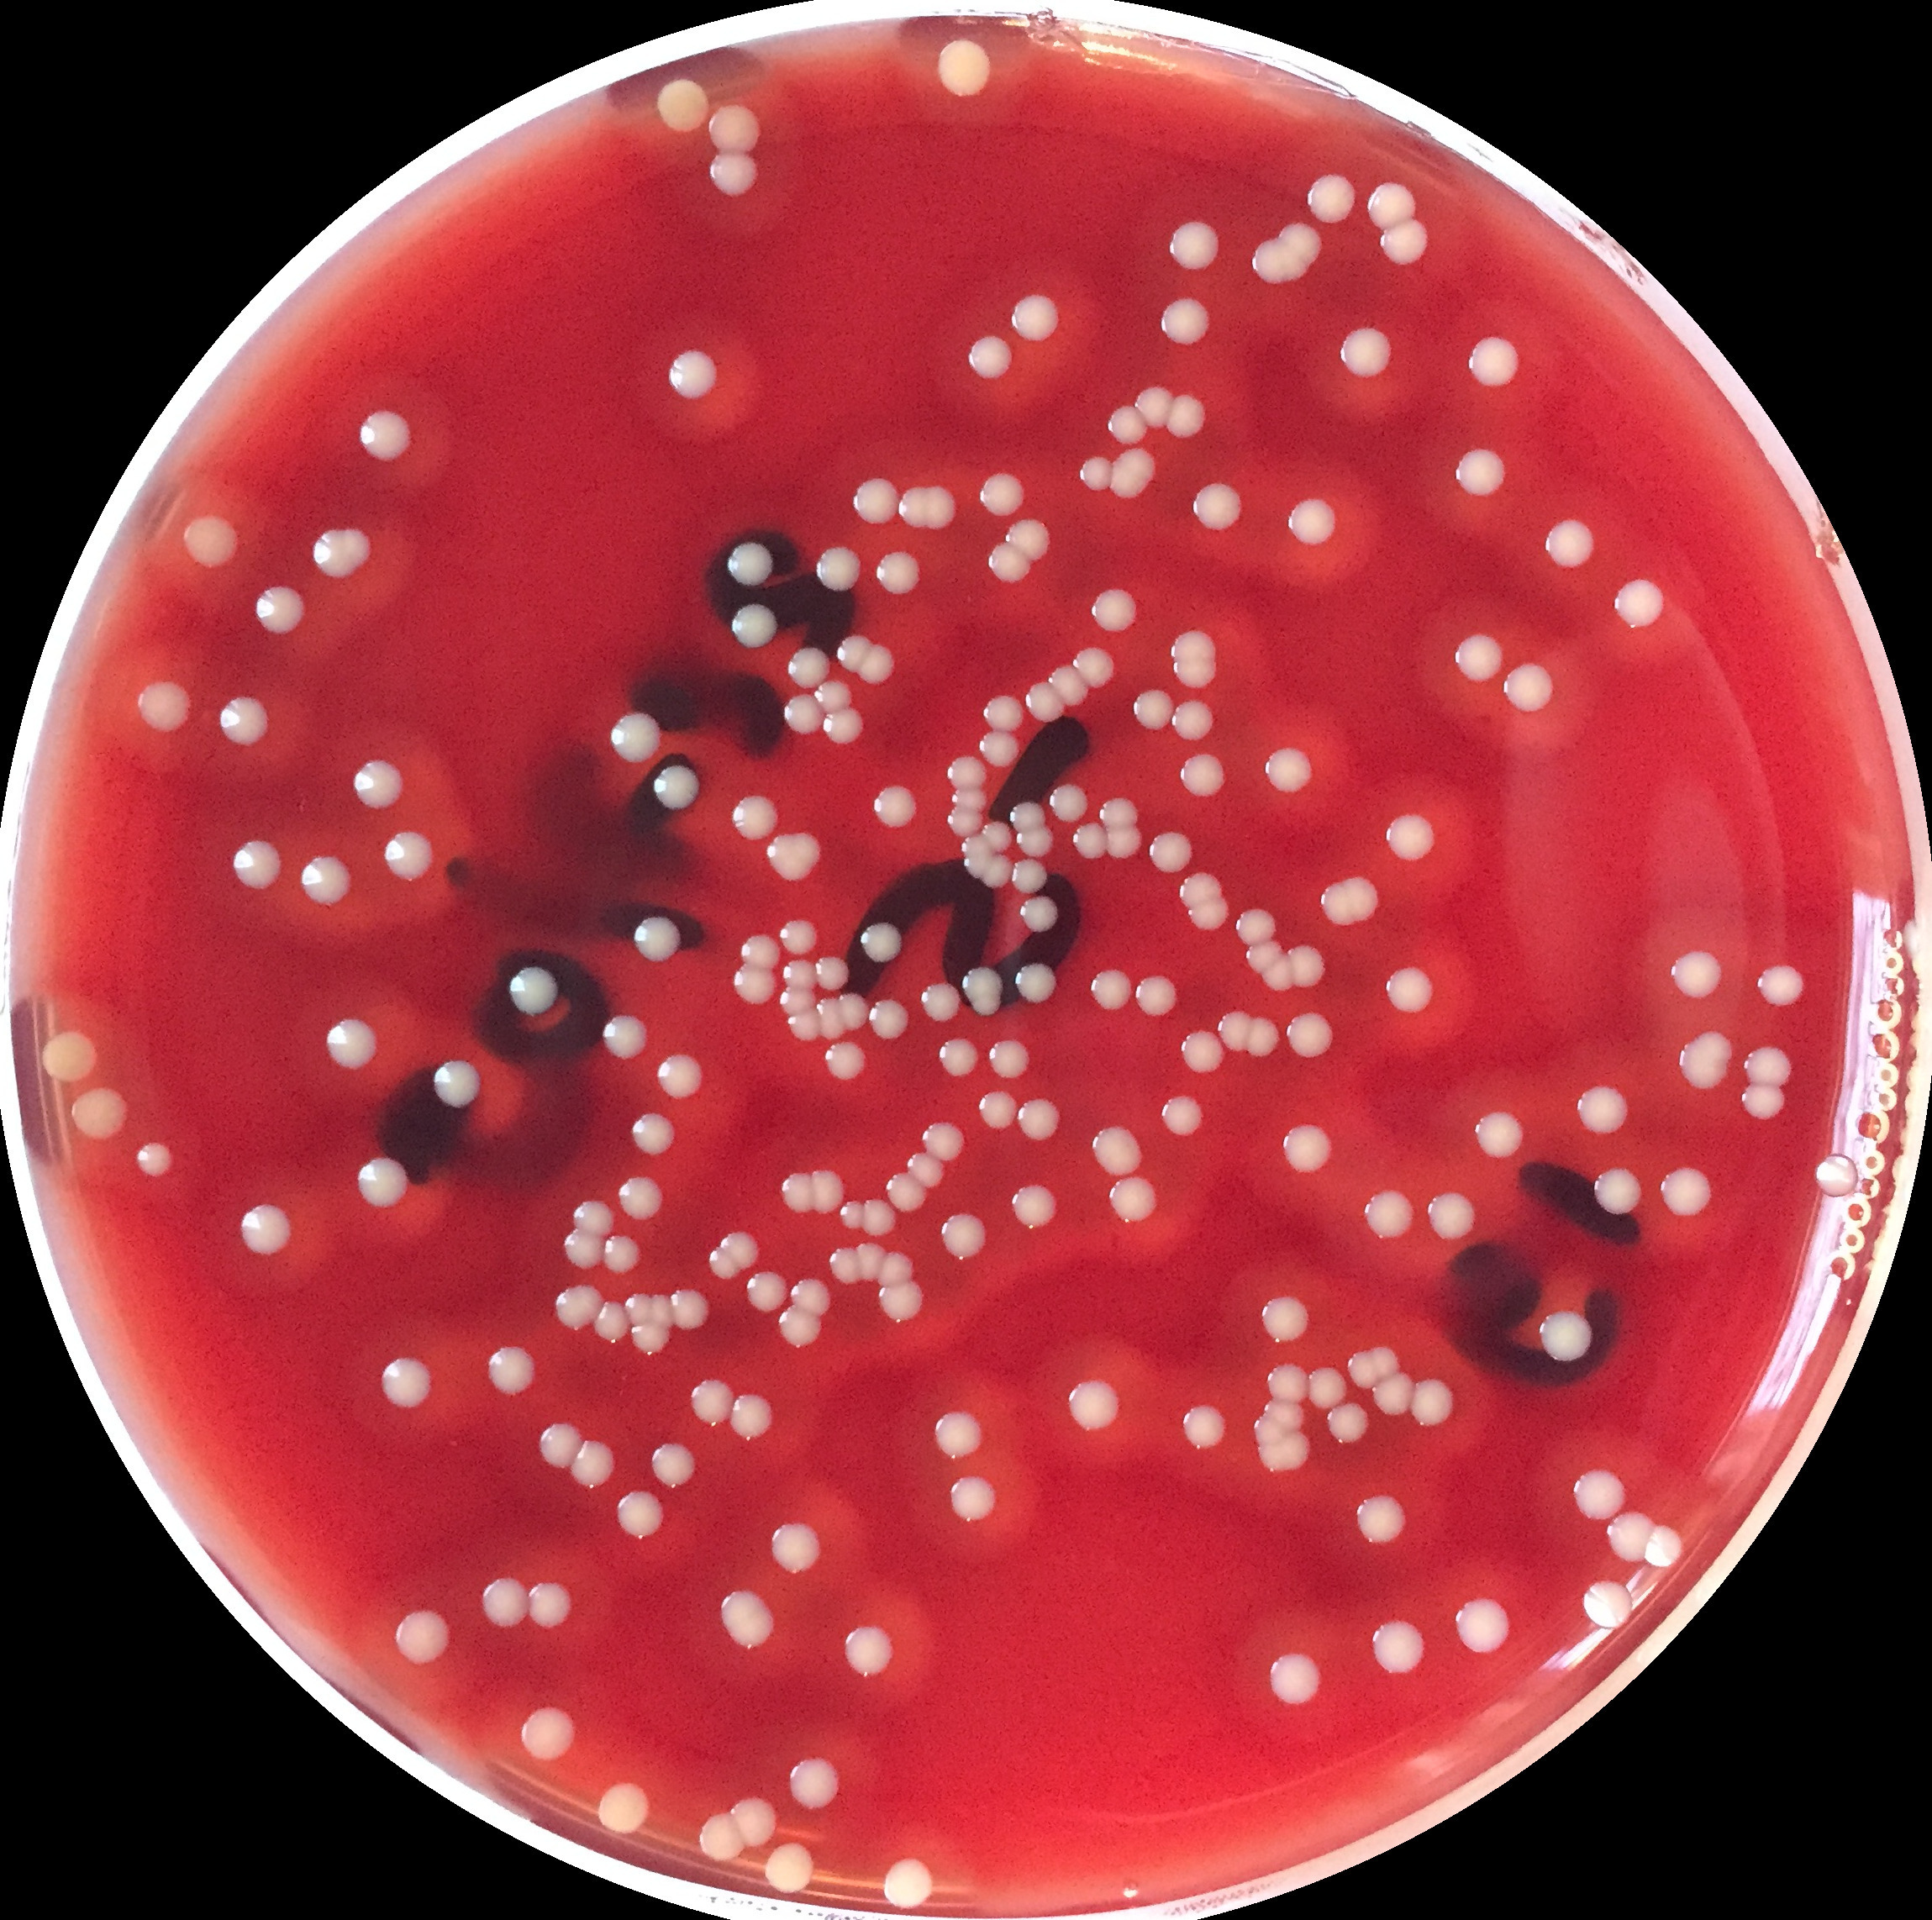sp21: (1364, 1611, 1429, 1679), (935, 35, 997, 105), (1675, 1027, 1735, 1099), (390, 1605, 457, 1669), (877, 1848, 941, 1915), (65, 1078, 132, 1141), (717, 1584, 777, 1655), (1452, 1593, 1515, 1658), (374, 1350, 438, 1415), (1104, 1169, 1169, 1233), (1318, 865, 1382, 928), (1064, 1373, 1127, 1436), (603, 707, 666, 770), (837, 1619, 902, 1681), (352, 1155, 420, 1213), (311, 527, 380, 585), (1610, 573, 1672, 636), (1570, 1463, 1631, 1526), (178, 512, 243, 571), (759, 828, 828, 884), (591, 1778, 656, 1836), (1535, 1310, 1596, 1370), (134, 677, 193, 738), (1498, 659, 1561, 717), (353, 404, 417, 462), (763, 1830, 816, 1899), (650, 79, 712, 137), (1164, 216, 1225, 274), (1464, 329, 1522, 390), (1267, 1647, 1326, 1709), (480, 1340, 541, 1398), (322, 1015, 383, 1073), (1660, 1160, 1716, 1224), (768, 1519, 824, 1582), (422, 1058, 487, 1113), (1338, 324, 1398, 382), (1378, 809, 1438, 867), (1668, 944, 1726, 1004), (1280, 1120, 1340, 1178), (517, 1700, 575, 1760), (350, 754, 410, 812), (299, 849, 357, 909), (1354, 1493, 1415, 1549), (703, 100, 766, 155), (786, 1749, 839, 1815), (1450, 629, 1508, 687), (1157, 290, 1213, 350), (930, 1407, 990, 1463), (229, 837, 285, 897), (661, 346, 723, 401), (381, 825, 436, 886), (1303, 171, 1359, 229), (1259, 744, 1317, 800), (1359, 1187, 1417, 1243), (1252, 1292, 1310, 1349), (942, 1472, 1000, 1528), (216, 691, 274, 747), (1754, 958, 1809, 1018), (236, 1201, 295, 1255), (35, 1032, 95, 1087), (960, 329, 1021, 382), (629, 913, 686, 969), (1188, 480, 1246, 535), (1545, 512, 1600, 570), (1424, 1189, 1478, 1247), (726, 1793, 784, 1848), (937, 1208, 991, 1266), (1090, 1122, 1148, 1176), (723, 538, 782, 591), (1245, 236, 1308, 285), (253, 580, 308, 636), (478, 1574, 531, 1632), (650, 1048, 708, 1101), (870, 779, 923, 837), (1454, 445, 1508, 499), (1285, 492, 1340, 547), (508, 962, 563, 1016), (598, 1009, 652, 1064), (1577, 1081, 1630, 1138), (1473, 1108, 1529, 1160), (1602, 1505, 1652, 1563), (610, 1487, 668, 1538), (1011, 290, 1064, 345), (1384, 962, 1438, 1015), (1257, 1426, 1310, 1480), (1109, 445, 1160, 501), (1589, 1164, 1645, 1215), (1178, 1398, 1234, 1449), (643, 1438, 700, 1489), (647, 760, 703, 811), (810, 543, 867, 594), (1580, 1577, 1633, 1630), (707, 148, 761, 199), (1378, 216, 1433, 267), (1285, 1007, 1336, 1062), (875, 547, 926, 601), (853, 475, 902, 531), (1364, 176, 1417, 227), (556, 1280, 608, 1331), (877, 1273, 930, 1324), (918, 976, 969, 1029), (1002, 515, 1057, 564), (687, 1375, 737, 1429), (524, 1579, 573, 1633), (1013, 1094, 1062, 1148), (1132, 971, 1183, 1022), (629, 1108, 680, 1159), (1088, 584, 1141, 633), (1181, 1027, 1231, 1080), (1280, 215, 1327, 269), (726, 603, 781, 651), (860, 913, 905, 969), (1011, 956, 1060, 1007), (1742, 1037, 1793, 1087), (1178, 751, 1231, 798), (1324, 1401, 1376, 1449), (744, 1266, 791, 1319), (867, 993, 912, 1048), (1129, 684, 1178, 733), (730, 789, 779, 839), (1144, 826, 1195, 874), (1812, 1148, 1860, 1199), (571, 1435, 619, 1486), (700, 1809, 747, 1860), (784, 644, 832, 695), (1369, 1366, 1415, 1419), (1266, 1357, 1318, 1403), (730, 1391, 775, 1444), (1011, 1178, 1057, 1231), (974, 473, 1028, 517), (919, 478, 963, 533), (1071, 642, 1120, 689), (1090, 965, 1137, 1015), (1406, 1377, 1454, 1426), (1304, 1361, 1354, 1408), (918, 1116, 965, 1166), (733, 962, 781, 1011), (536, 1422, 587, 1468), (1044, 661, 1092, 709), (619, 1176, 666, 1224), (1129, 383, 1174, 433), (624, 1317, 673, 1363), (779, 1301, 824, 1350), (1167, 698, 1218, 742), (1285, 941, 1331, 988), (986, 1037, 1034, 1083), (1158, 1090, 1206, 1136), (1174, 867, 1224, 911), (598, 1231, 642, 1280), (976, 1085, 1020, 1134), (1166, 390, 1208, 441), (937, 1034, 983, 1080), (986, 540, 1034, 584), (774, 1169, 817, 1217), (823, 1039, 870, 1083), (1167, 624, 1218, 665), (1023, 679, 1069, 723), (1048, 779, 1092, 825), (779, 691, 824, 735), (1104, 404, 1151, 447), (1742, 1080, 1790, 1122), (1260, 1393, 1308, 1435), (789, 1275, 837, 1317), (821, 703, 868, 745), (856, 642, 898, 689), (884, 1169, 928, 1213), (979, 693, 1025, 735), (1099, 818, 1144, 860), (1644, 1523, 1686, 1568), (570, 1194, 615, 1236), (670, 1285, 712, 1331), (132, 1139, 178, 1182), (942, 751, 991, 789), (1171, 656, 1222, 693), (594, 1294, 631, 1345), (740, 930, 782, 974), (779, 913, 823, 955), (1241, 937, 1287, 978), (1234, 904, 1282, 942), (1243, 1015, 1282, 1062), (810, 1167, 847, 1217), (907, 1148, 949, 1190), (979, 726, 1020, 770), (1069, 818, 1109, 862), (812, 679, 858, 717), (724, 1227, 765, 1269), (1099, 793, 1143, 832), (1185, 898, 1231, 935), (563, 1229, 603, 1269), (705, 1243, 745, 1284), (809, 951, 849, 992), (832, 633, 872, 673), (1076, 452, 1115, 494), (1011, 821, 1053, 860), (960, 958, 1002, 997), (861, 1197, 898, 1241), (1215, 1006, 1250, 1051), (875, 1247, 912, 1289), (833, 988, 870, 1030), (1014, 897, 1058, 932), (1006, 802, 1051, 835), (1260, 949, 1294, 995), (856, 1238, 886, 1289), (1013, 856, 1051, 895), (777, 983, 816, 1022), (826, 1243, 863, 1284), (981, 853, 1014, 897), (1364, 1340, 1401, 1378), (619, 1284, 654, 1324), (786, 1006, 823, 1043), (1347, 1349, 1380, 1387), (777, 955, 816, 988), (898, 485, 928, 527), (981, 818, 1014, 855), (958, 846, 991, 883), (647, 1292, 679, 1331), (946, 809, 986, 839), (1252, 1414, 1287, 1447), (837, 1197, 868, 1234), (951, 782, 986, 814), (972, 988, 1006, 1018)
